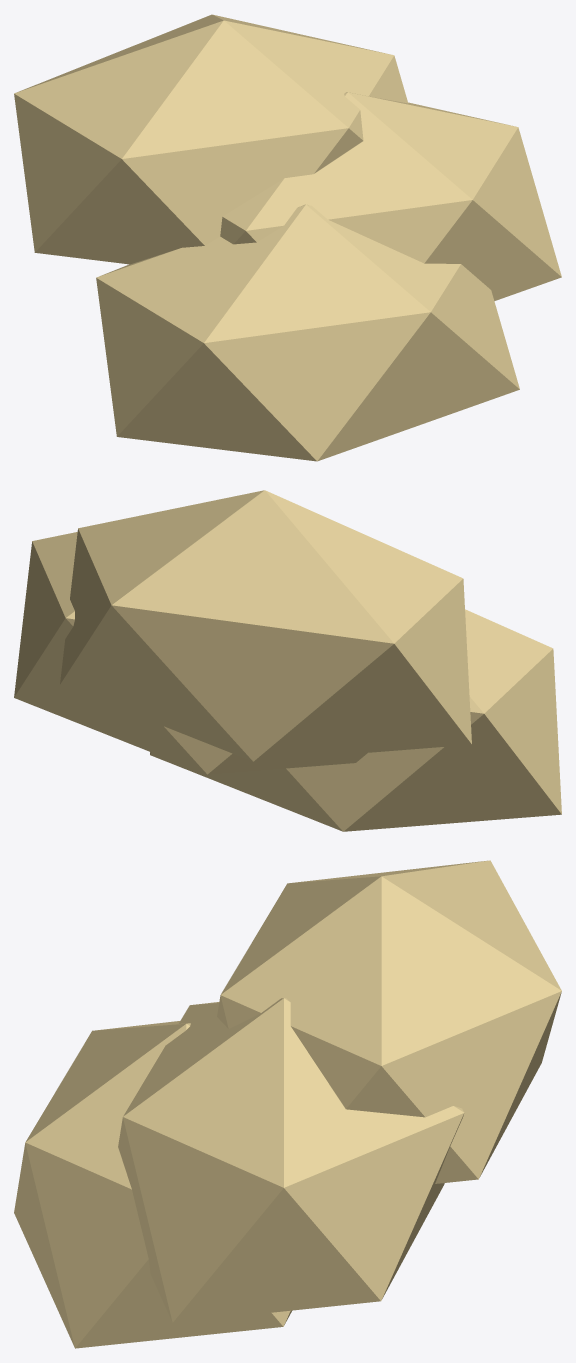
The model's file is item_044_bread_m.glb.
3 renders of one model, top to bottom at view 1: azimuth 30°, elevation 25°; view 2: azimuth 150°, elevation 25°; view 3: azimuth 270°, elevation 25°, orthographic. The views are drawn at different scales.
Parts seen in each view (by area): view 1: item_044_bread_m; view 2: item_044_bread_m; view 3: item_044_bread_m.
Part boxes in pixels (x1,y1,x2,y2): item_044_bread_m: (14,14,561,461); item_044_bread_m: (14,490,561,831); item_044_bread_m: (14,860,561,1348).
Size of the model in its own units: 0.3735 by 0.2936 by 0.3369.
